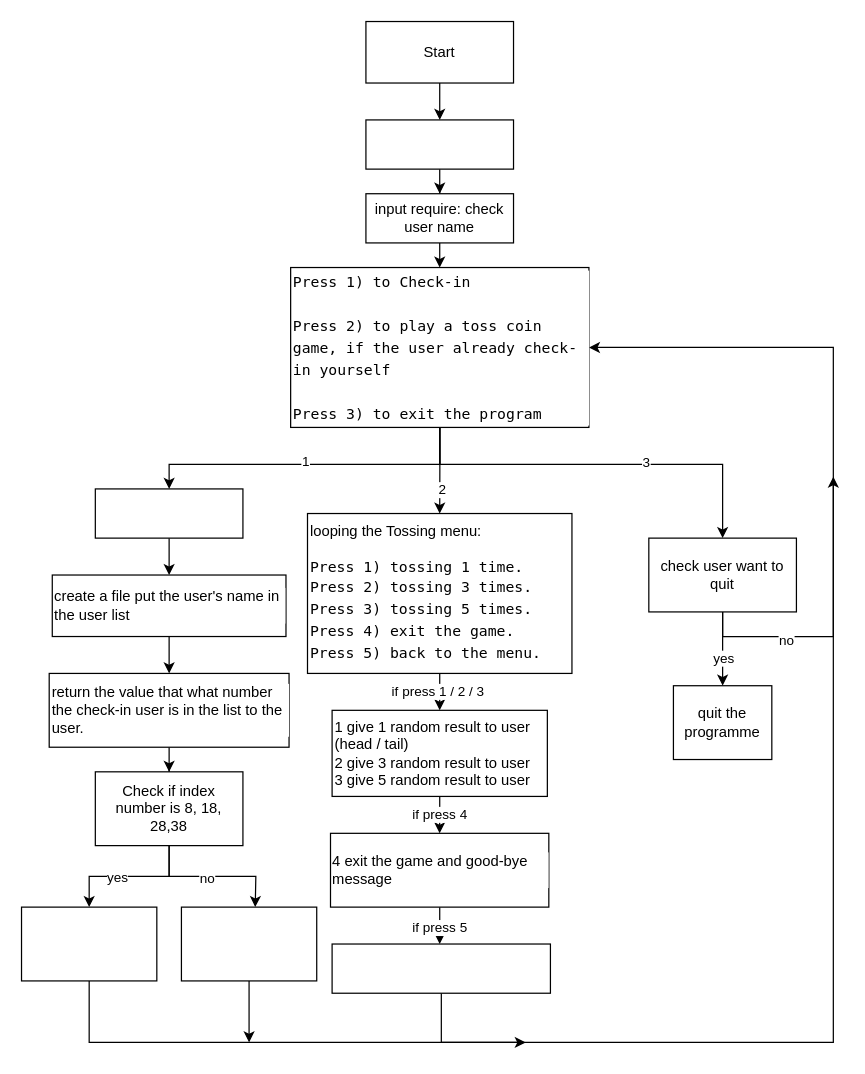
Some shapes in this 865 by 1074 pixel diagram are drawn without their labels. The centre of each missing label's shape, as x and y in pixels:
"5 back to menu" belongs at [440,968].
"Congratulations message, ask user to find a stuff." belongs at [88,943].
"Greeting with user name" belongs at [168,513].
"thanks for check-in message" belongs at [248,943].
"Welcome greeting" belongs at [439,144].
